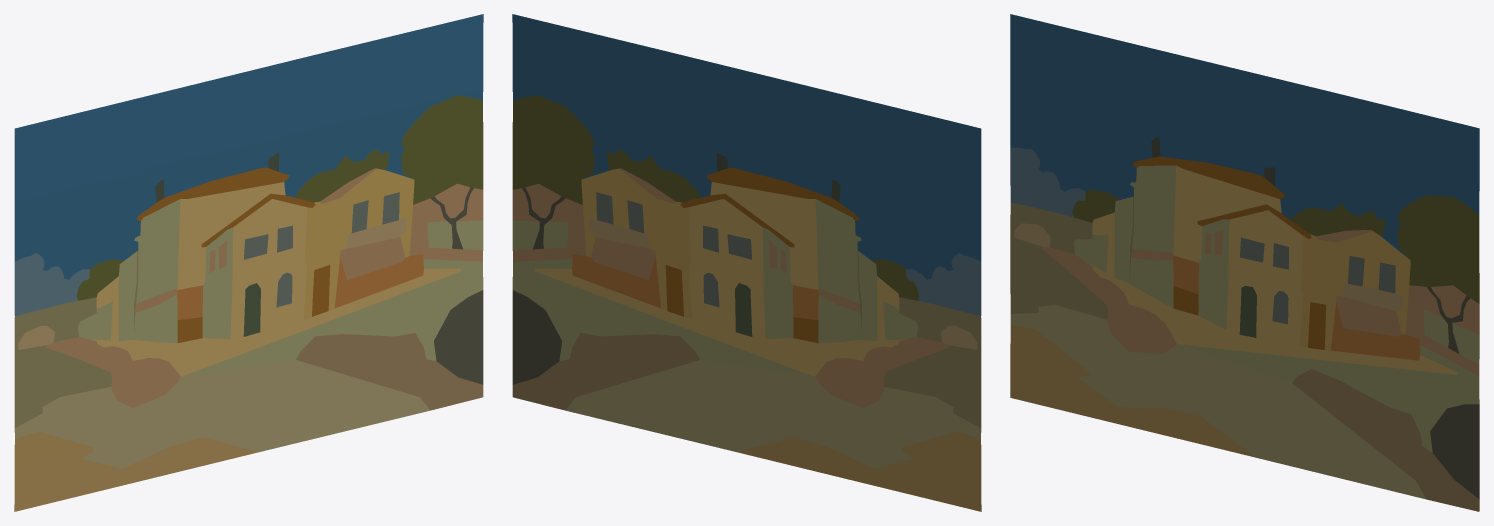
The model's file is P_AP31PaintingHouse.glb.
The picture shows the model from 3 angles, left to right: view 1: azimuth 30°, elevation 25°; view 2: azimuth 150°, elevation 25°; view 3: azimuth 330°, elevation 25°; orthographic projection.
Visible parts, largest first — view 1: P_AP31PaintingHouse; view 2: P_AP31PaintingHouse; view 3: P_AP31PaintingHouse.
Boxes of the visible parts, x1=… form: P_AP31PaintingHouse: x1=14, y1=14, x2=483, y2=511; P_AP31PaintingHouse: x1=512, y1=14, x2=981, y2=511; P_AP31PaintingHouse: x1=1010, y1=14, x2=1479, y2=511.
Size of the model in its own units: 1.83 by 1.43 by 5.7e-09.
1 material, 1 textured.
